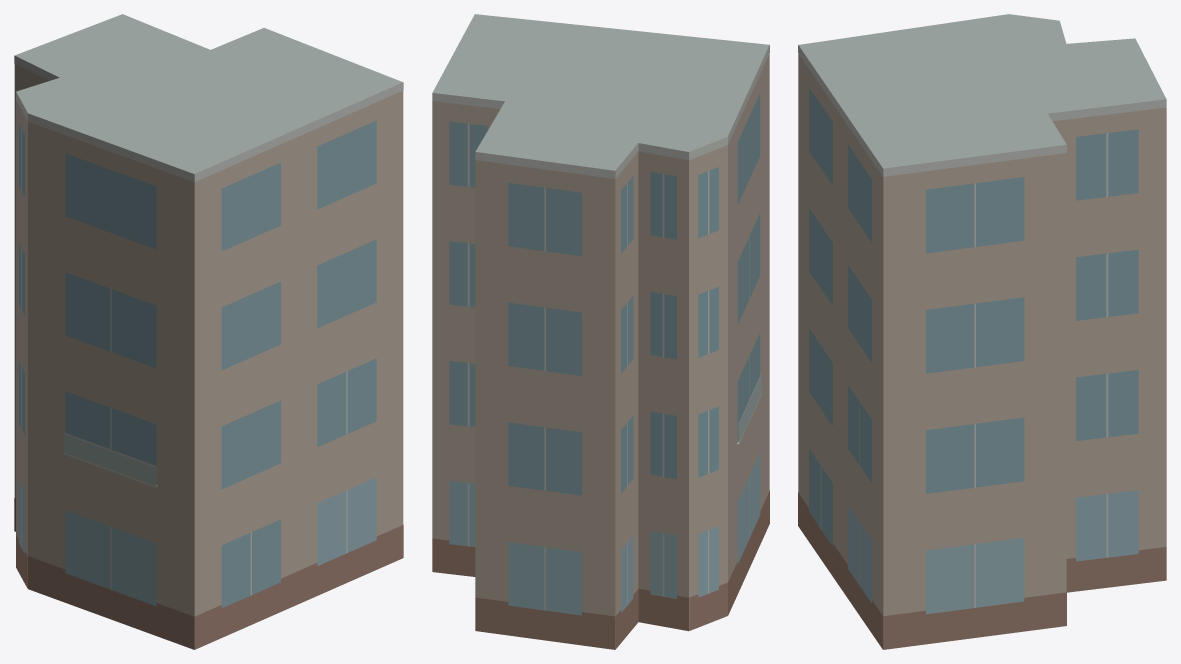
Rendered from survey-upis-32981996.glb.
3 views of the same model, side by side, from view 1: azimuth 30°, elevation 25°; view 2: azimuth 150°, elevation 25°; view 3: azimuth 270°, elevation 25° (orthographic).
Parts seen in each view (by area): view 1: survey-upis-32981996.tmp; view 2: survey-upis-32981996.tmp; view 3: survey-upis-32981996.tmp.
Part boxes in pixels (box(x1,y1,x2,y2)): survey-upis-32981996.tmp: box(14, 14, 403, 649); survey-upis-32981996.tmp: box(432, 14, 769, 649); survey-upis-32981996.tmp: box(798, 14, 1166, 649).
Bounding box in the file's own units: 9.87 × 14.3 × 9.93.
